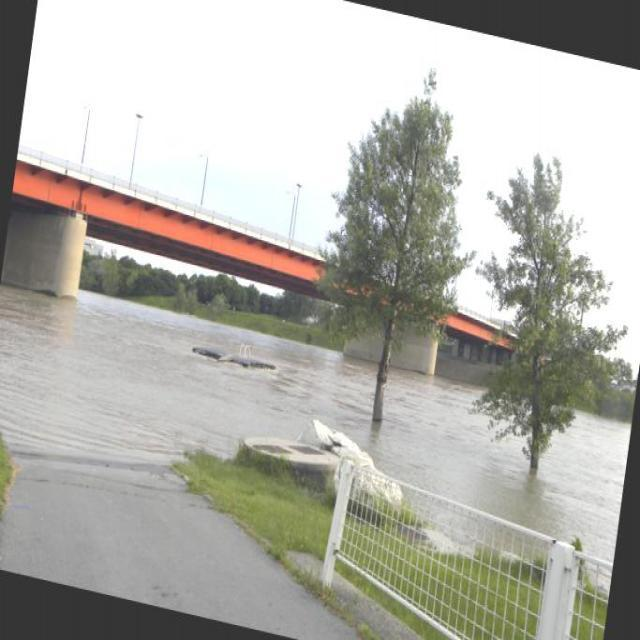flood: (0, 242, 636, 578)
